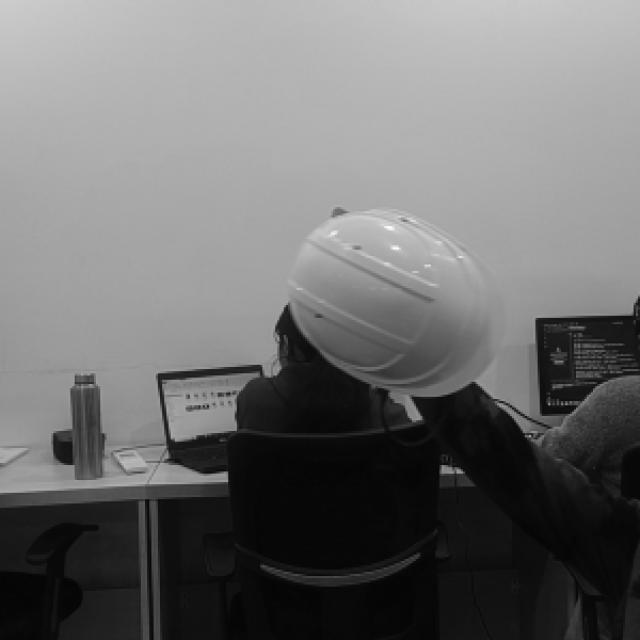safety_helmet: (290, 208, 499, 396)
